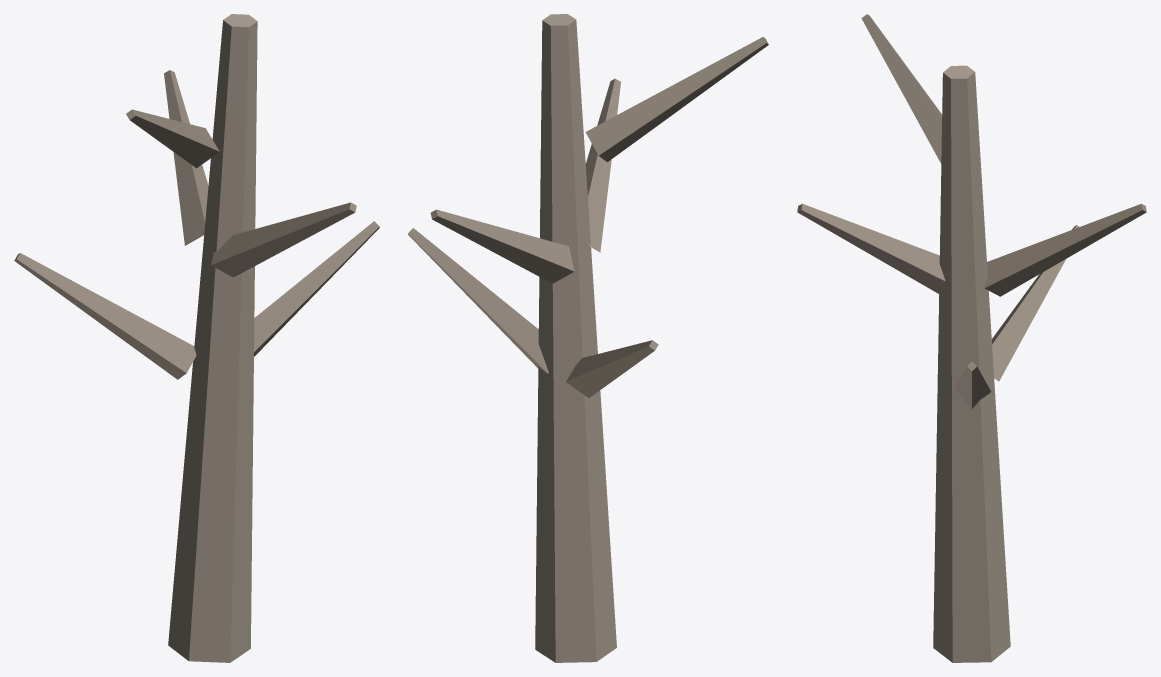
The model's file is deadtree_v38.glb.
The picture shows the model from 3 angles, left to right: view 1: azimuth 30°, elevation 25°; view 2: azimuth 150°, elevation 25°; view 3: azimuth 270°, elevation 25°; orthographic projection. The views are drawn at different scales.
Visible parts, largest first — view 1: lod0; view 2: lod0; view 3: lod0.
Part boxes in pixels (left/top/right/bottom): lod0: left=14, top=14, right=379, bottom=662; lod0: left=408, top=14, right=768, bottom=662; lod0: left=797, top=14, right=1146, bottom=662.
Size of what is drawn, in the model's own units: 2.17 by 4.22 by 2.27.
